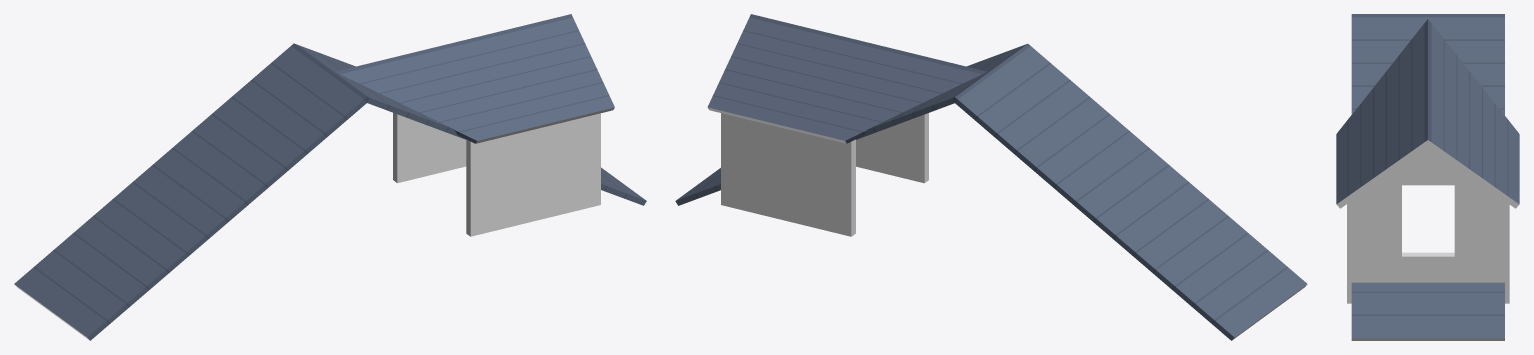
Rendered from Roof4_C4_04.fbx.
The picture shows the model from 3 angles, left to right: view 1: azimuth 30°, elevation 25°; view 2: azimuth 150°, elevation 25°; view 3: azimuth 270°, elevation 25°; orthographic projection. The views are drawn at different scales.
Parts seen in each view (by area): view 1: Roof4_C4_04; view 2: Roof4_C4_04; view 3: Roof4_C4_04.
Boxes of the visible parts, x1,y1,x2,y2 form: Roof4_C4_04: (14,14,646,340); Roof4_C4_04: (675,14,1307,340); Roof4_C4_04: (1336,14,1519,340).
Size of the model in its own units: 1105 by 333 by 298.
